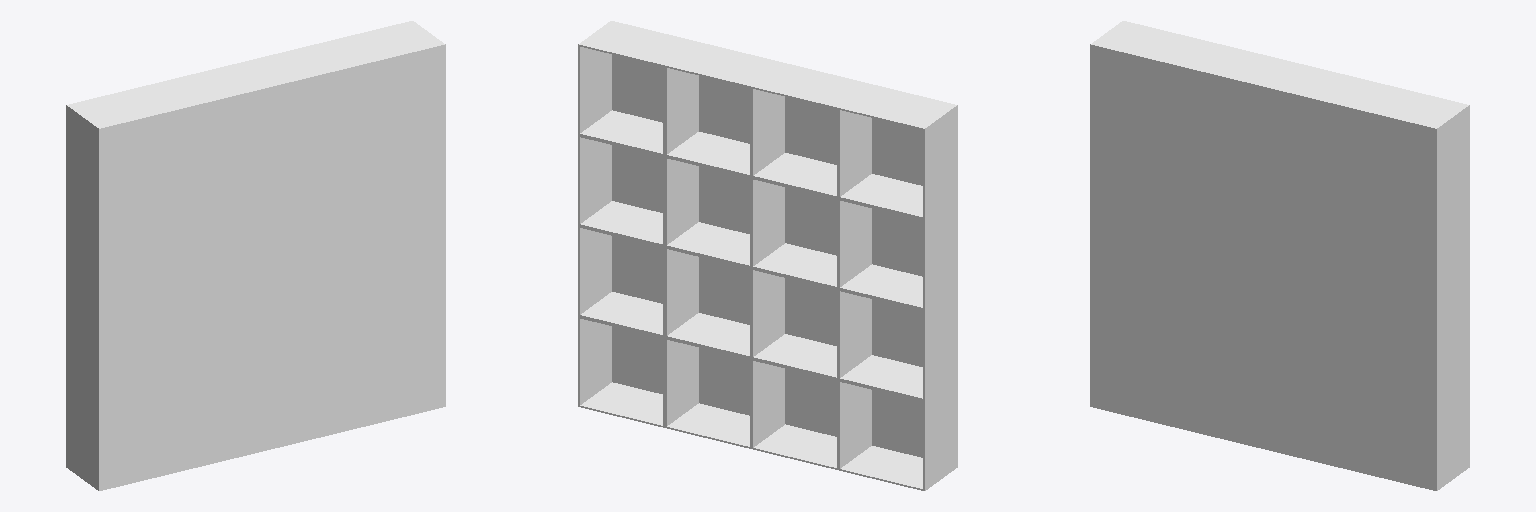
The robot description file, URDF, robot "box1":
<robot name="box1">
	<link name="base_link">
		<visual>
			<origin xyz="0.0014938727773305587 -0.015432679933728788 -0.02111450326881559" rpy="0.0 0.0 0.0" />
			<geometry>
				<mesh filename="Part33.STL" scale="0.001 0.001 0.001" />
			</geometry>
			<material name="texture">
				<color rgba="1.0 1.0 1.0 1.0" />
			</material>
		</visual>
		<collision>
      		<geometry>
        		<box size="0.01 0.01 0.01"/> <!-- Size for collision detection -->
      		</geometry>
    	</collision>
		<inertial>
			<mass value="1.0" />
			<inertia ixx="1e-3" ixy="0.0" ixz="0.0" iyy="1e-3" iyz="0.0" izz="1e-3" />
		</inertial>
	</link>
</robot>

--- Render facts (derived) ---
3 views of the same robot in one strip: view 1: azimuth 30°, elevation 25°; view 2: azimuth 150°, elevation 25°; view 3: azimuth 330°, elevation 25° (orthographic).
Robot: box1 — 1 links, 0 joints (none); root link base_link; default pose: every joint at zero.
Visible links, largest first — view 1: base_link; view 2: base_link; view 3: base_link.
Boxes of the visible links, left/top/right/bottom form: base_link: left=66, top=21, right=445, bottom=490; base_link: left=578, top=21, right=957, bottom=490; base_link: left=1090, top=21, right=1469, bottom=490.
Bounding box of the posed robot: 0.624 × 0.102 × 0.624 m (x, y, z).
1 mesh visuals loaded from 1 distinct referenced files (1 binary STL).